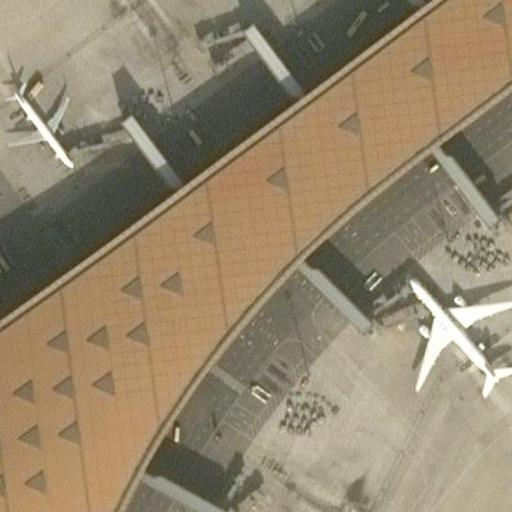Aircraft: (399, 267, 512, 404), (0, 70, 87, 172)
